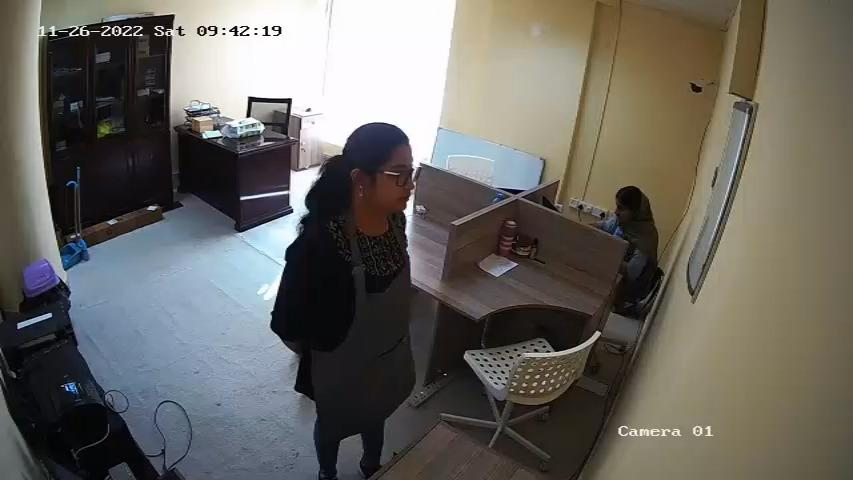apron: (334, 223, 414, 422)
